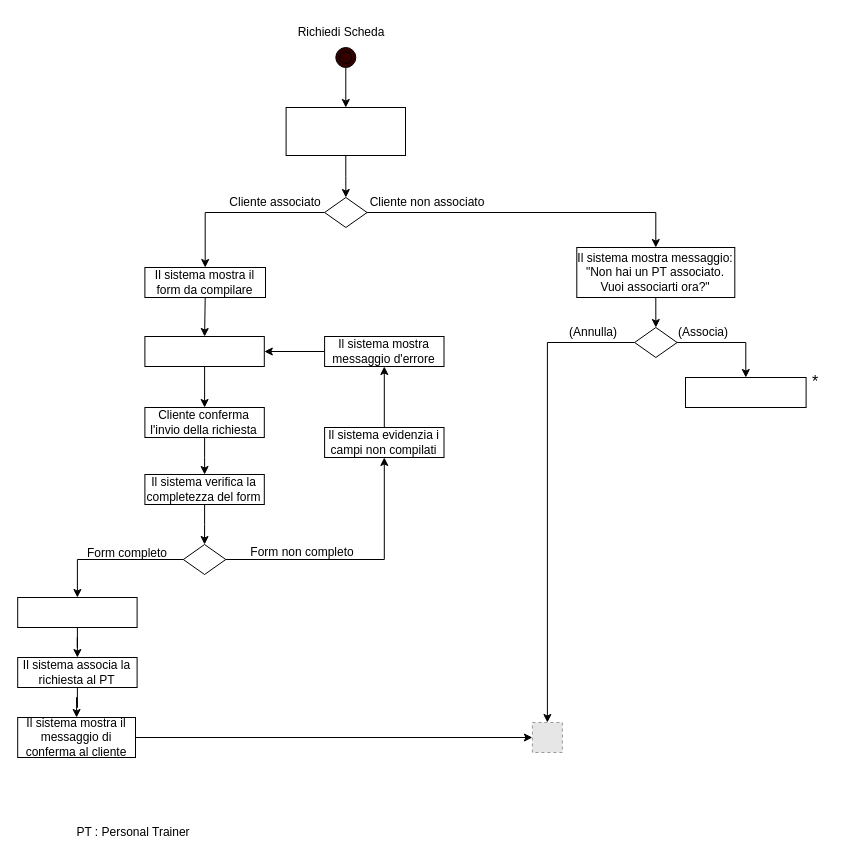
Image size: 863x864. Some labels were removed from this diagram. Grey dashed boxes stand in for pictures. The shapes that lost their labels are listed below. From the top down, each one's centre as x and y in pixels, then its label:
At point (345, 131): "Il sistema verifica che il cliente sia associato ad un PT".
At point (204, 351): "Cliente compila il form".
At point (745, 392): "Associa a PT".
At point (77, 612): "Il sistema registra la richiesta".
